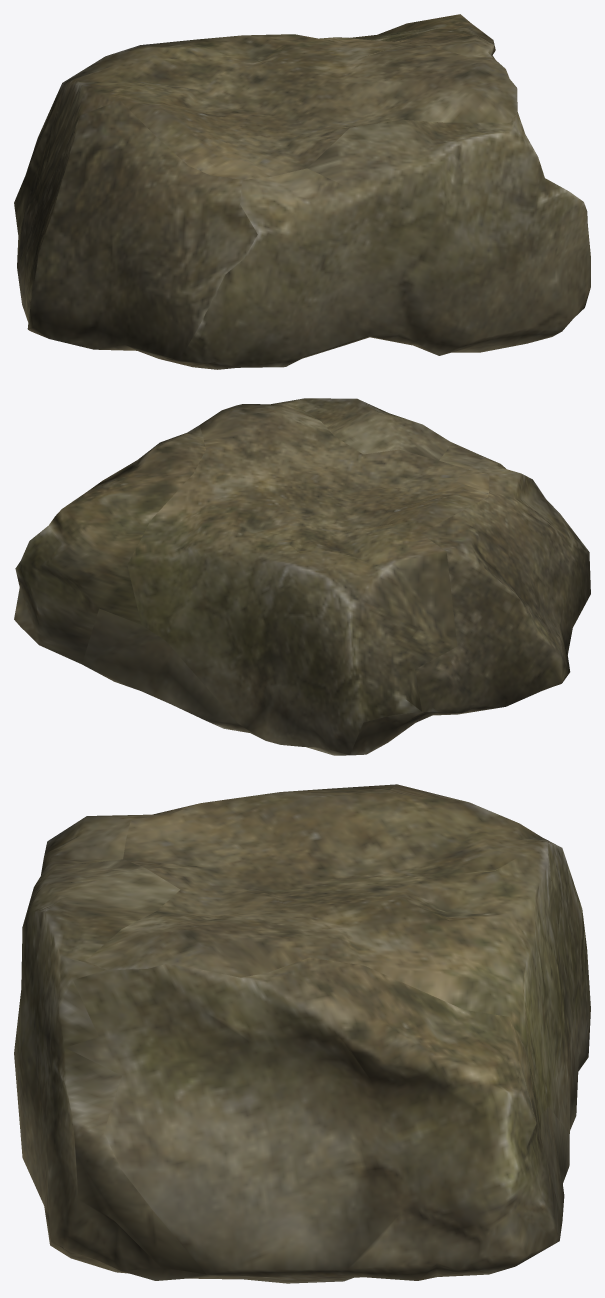
Rendered from pine_rockb_07.glb.
The picture shows the model from 3 angles, top to bottom: view 1: azimuth 30°, elevation 25°; view 2: azimuth 150°, elevation 25°; view 3: azimuth 270°, elevation 25°; orthographic projection. The views are drawn at different scales.
Visible parts, largest first — view 1: pine_rockb_07; view 2: pine_rockb_07; view 3: pine_rockb_07.
Boxes of the visible parts, x1,y1,x2,y2 form: pine_rockb_07: (14, 14, 590, 369); pine_rockb_07: (14, 398, 590, 755); pine_rockb_07: (14, 784, 590, 1283).
Bounding box in the file's own units: 1.51 × 0.6636 × 1.08.
Materials: 1 (1 with a texture image).
